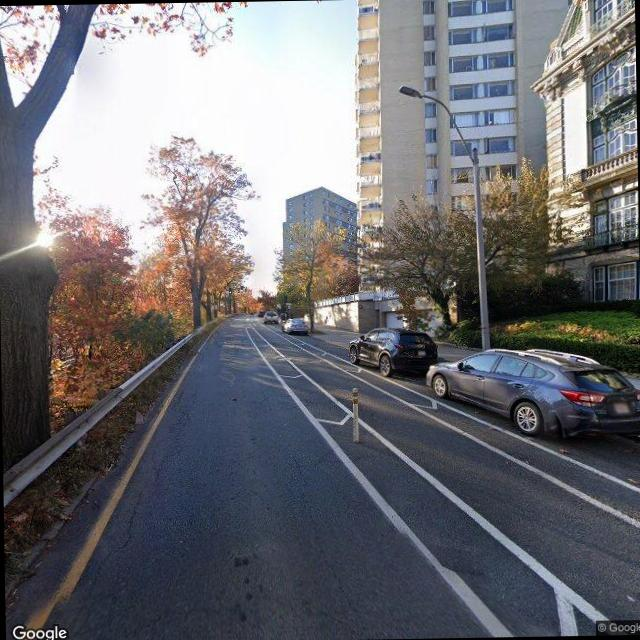pothole: (66, 382, 193, 620)
